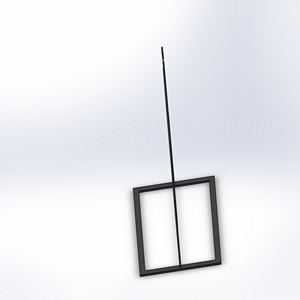circle: (131, 42, 224, 277)
